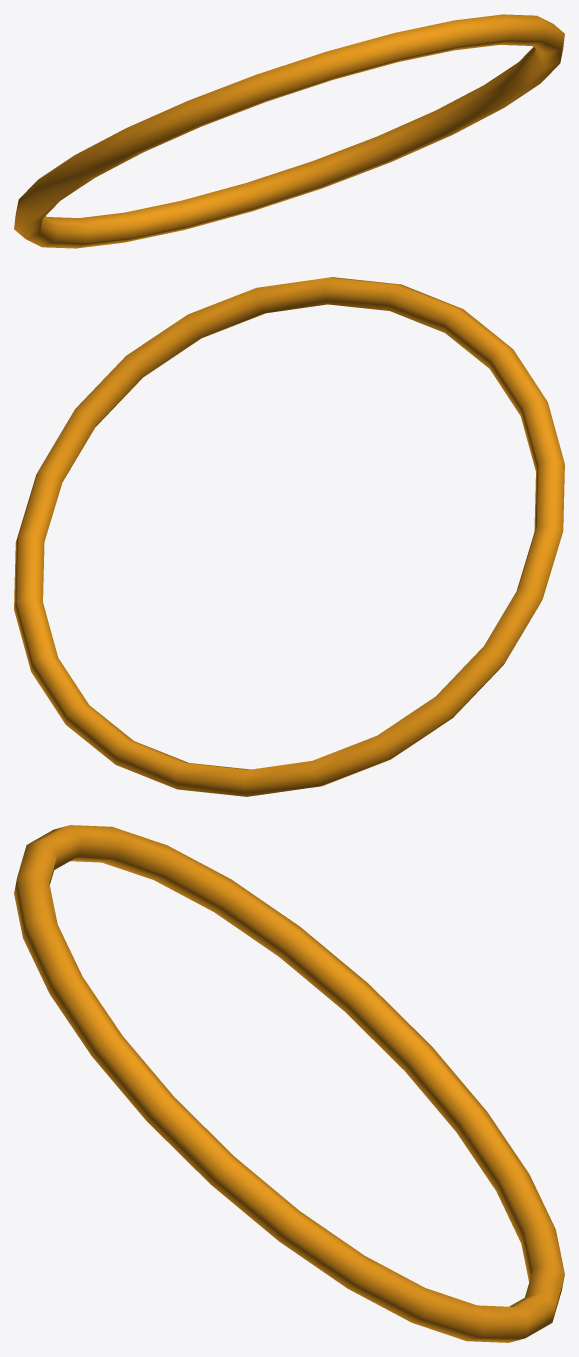
The model's file is Jesus_Aureole.FBX.
3 views of the same model, one above another, from view 1: azimuth 30°, elevation 25°; view 2: azimuth 150°, elevation 25°; view 3: azimuth 270°, elevation 25° (orthographic). The views are drawn at different scales.
Parts seen in each view (by area): view 1: Aureole; view 2: Aureole; view 3: Aureole.
Boxes of the visible parts, x1,y1,x2,y2 form: Aureole: (14, 14, 564, 248); Aureole: (14, 277, 564, 796); Aureole: (14, 825, 564, 1342).
Size of the model in its own units: 19 by 12.55 by 14.73.
